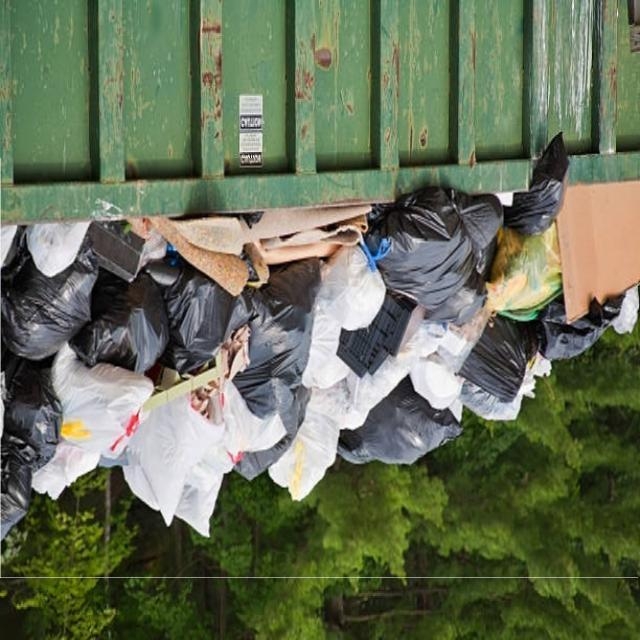Trashbag: (362, 185, 470, 313), (221, 258, 327, 380), (3, 249, 95, 364), (79, 262, 170, 375), (336, 387, 460, 468), (222, 370, 310, 484), (463, 315, 537, 406), (5, 357, 67, 456), (168, 271, 235, 351), (530, 304, 610, 368), (0, 438, 42, 541), (507, 176, 568, 241), (461, 194, 511, 254)
